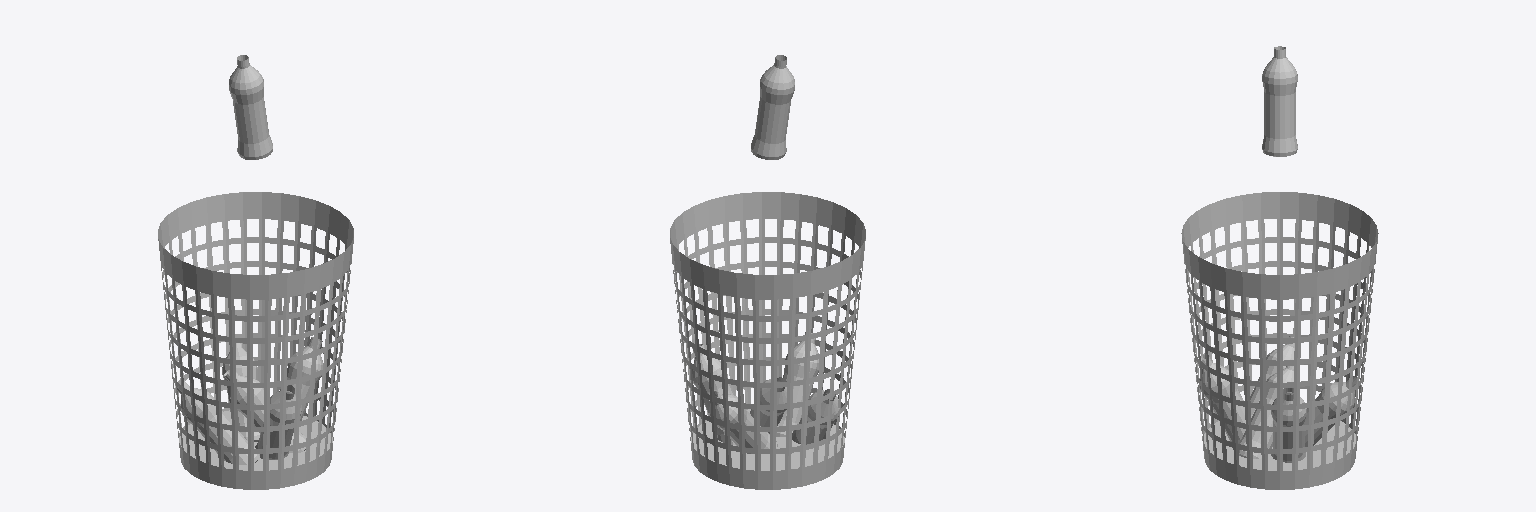
The model's file is DustbinWithCan_000013.obj.
3 renders of one model, left to right at view 1: azimuth 30°, elevation 25°; view 2: azimuth 150°, elevation 25°; view 3: azimuth 270°, elevation 25°, orthographic.
Parts seen in each view (by area): view 1: Cylinder, Plane.006, Plane.005, Plane.001, Plane.004, Plane.003, Plane.002; view 2: Cylinder, Plane.006, Plane.001, Plane.002, Plane.005, Plane.003, Plane.004; view 3: Cylinder, Plane.006, Plane.001, Plane.003, Plane.004, Plane.002, Plane.005.
Boxes of the visible parts, x1,y1,x2,y2 form: Cylinder: [158, 192, 353, 489]; Plane.006: [229, 55, 272, 159]; Plane.005: [175, 380, 259, 464]; Plane.001: [255, 385, 301, 459]; Plane.004: [224, 370, 305, 452]; Plane.003: [279, 337, 322, 420]; Plane.002: [222, 343, 259, 441]; Cylinder: [670, 192, 865, 489]; Plane.006: [751, 55, 794, 159]; Plane.001: [776, 332, 818, 436]; Plane.002: [709, 391, 777, 453]; Plane.005: [792, 389, 840, 444]; Plane.003: [692, 344, 734, 444]; Plane.004: [750, 377, 786, 433]; Cylinder: [1181, 192, 1378, 489]; Plane.006: [1262, 46, 1297, 156]; Plane.001: [1199, 355, 1251, 442]; Plane.003: [1271, 388, 1306, 462]; Plane.004: [1238, 366, 1293, 458]; Plane.002: [1305, 376, 1356, 446]; Plane.005: [1250, 336, 1294, 415].
Size of the model in its own units: 2.6 by 5.89 by 2.6.